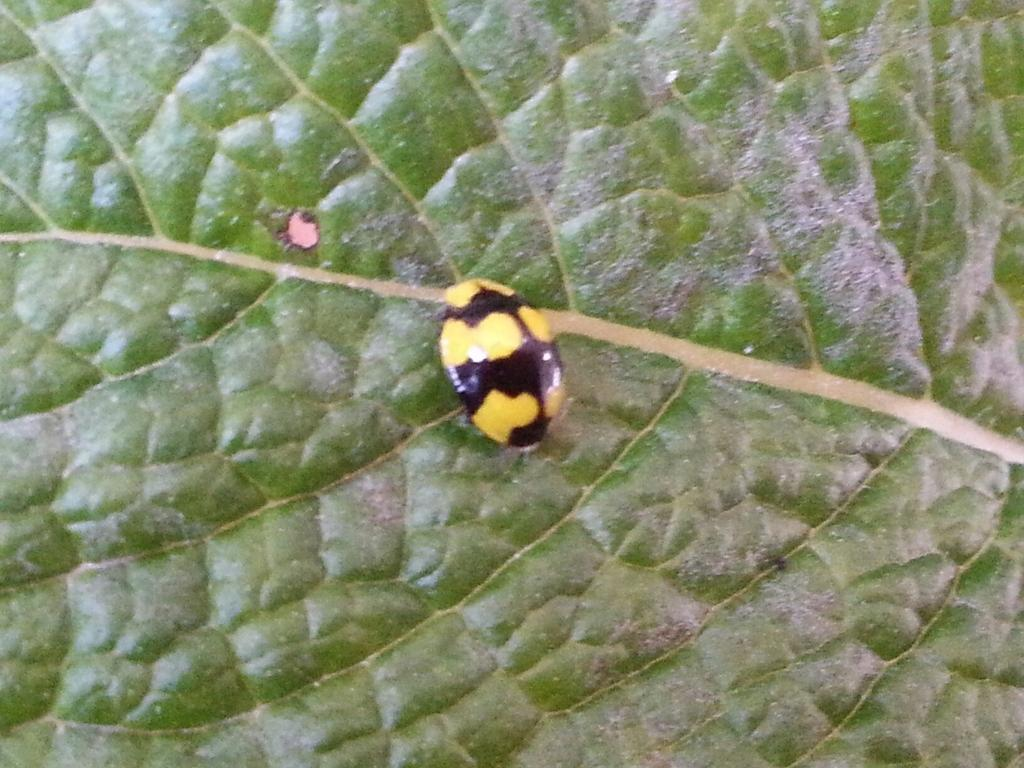ladybug: (435, 277, 573, 453)
